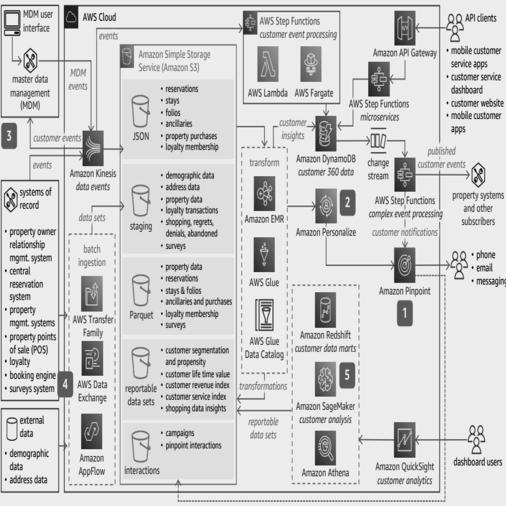actor: (2, 175, 53, 380), (2, 416, 53, 477), (448, 165, 499, 216), (448, 242, 499, 293), (2, 48, 53, 98), (448, 52, 499, 94), (448, 6, 499, 47), (448, 426, 499, 467), (2, 6, 53, 37)
api_gateway: (384, 11, 410, 52)
compute: (294, 37, 325, 78), (309, 180, 340, 221), (309, 355, 340, 396), (309, 426, 340, 467), (381, 426, 412, 467), (248, 37, 278, 78), (74, 129, 104, 170), (248, 170, 278, 211), (248, 242, 278, 282), (368, 58, 394, 88), (368, 150, 394, 180)
data_flow: (141, 480, 396, 485), (394, 273, 399, 478), (91, 34, 251, 40), (368, 303, 374, 457), (86, 37, 92, 129), (212, 300, 274, 306), (212, 444, 274, 449), (266, 134, 271, 186), (394, 176, 399, 226), (212, 368, 274, 372), (212, 378, 274, 382), (335, 208, 376, 214), (412, 162, 452, 168), (417, 444, 458, 449), (412, 260, 452, 264), (270, 126, 296, 132), (48, 137, 79, 142), (48, 158, 79, 163), (48, 106, 79, 111), (427, 65, 458, 70), (353, 126, 378, 132), (138, 452, 143, 482), (25, 34, 30, 60), (102, 137, 128, 142), (427, 30, 458, 34), (233, 198, 253, 204), (284, 198, 304, 204), (233, 188, 253, 193), (394, 42, 399, 62), (371, 444, 391, 449), (287, 84, 292, 103), (233, 260, 253, 264)
database_storage: (312, 282, 337, 324), (312, 109, 337, 150), (128, 93, 154, 124), (128, 277, 154, 308), (128, 360, 154, 391), (128, 431, 154, 462), (128, 186, 154, 216)
network_security: (76, 282, 102, 324), (76, 410, 102, 452), (76, 350, 102, 390), (384, 242, 410, 282)
trust_boundary: (64, 4, 483, 490), (109, 31, 232, 482), (64, 229, 115, 490), (294, 278, 355, 482), (238, 153, 288, 332), (238, 27, 340, 88)
